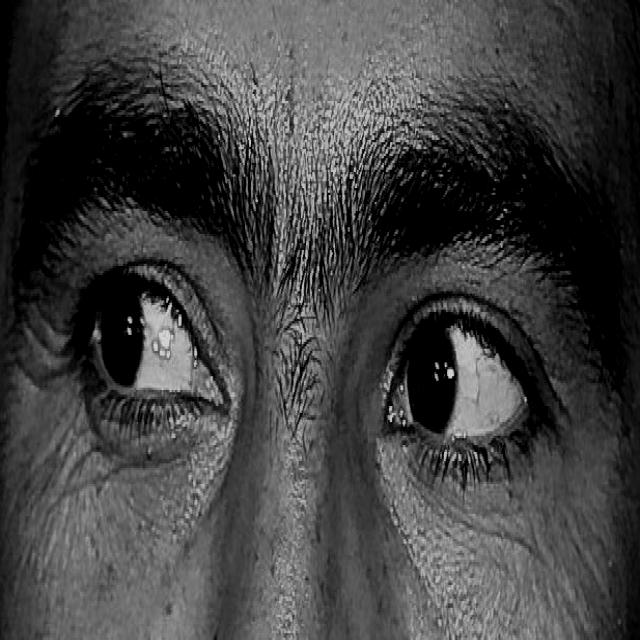real: (40, 119, 592, 564)
